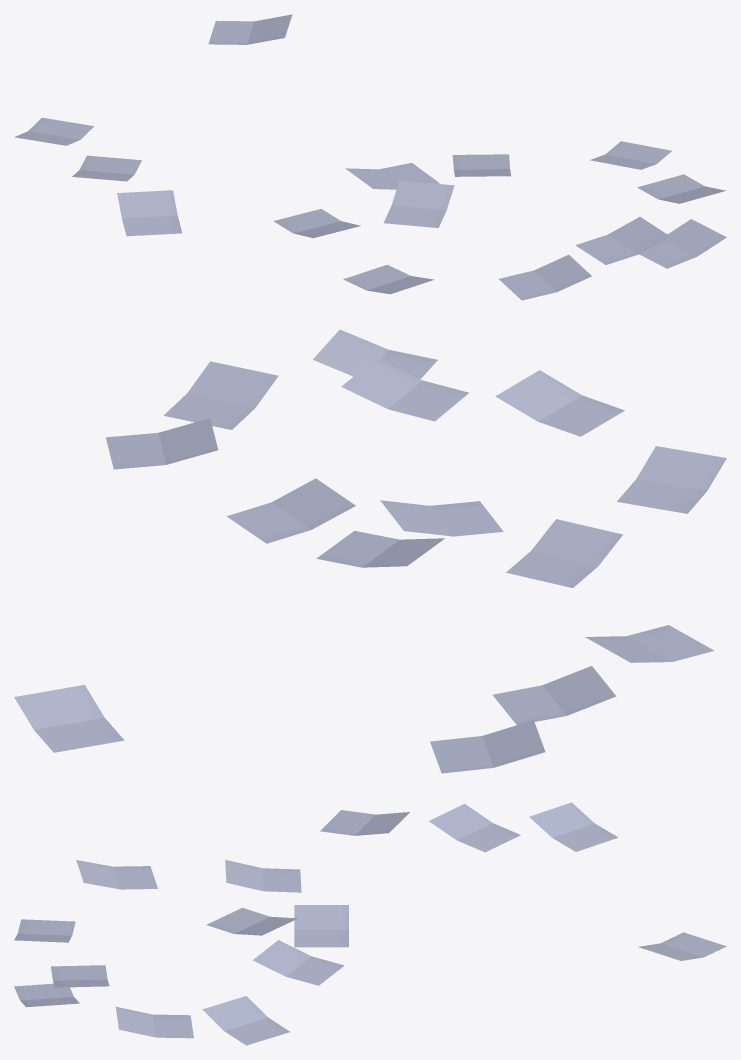
Rendered from Papers3.fbx.
3 views of the same model, one above another, from view 1: azimuth 30°, elevation 25°; view 2: azimuth 150°, elevation 25°; view 3: azimuth 270°, elevation 25° (orthographic). The views are drawn at different scales.
Visible parts, largest first — view 1: Плоскость.001; view 2: Плоскость.001; view 3: Плоскость.001.
Part boxes in pixels (x1,y1,x2,y2): Плоскость.001: [14, 14, 726, 300]; Плоскость.001: [14, 329, 726, 773]; Плоскость.001: [14, 802, 726, 1045].
Bounding box in the file's own units: 185 × 3.84 × 237.
